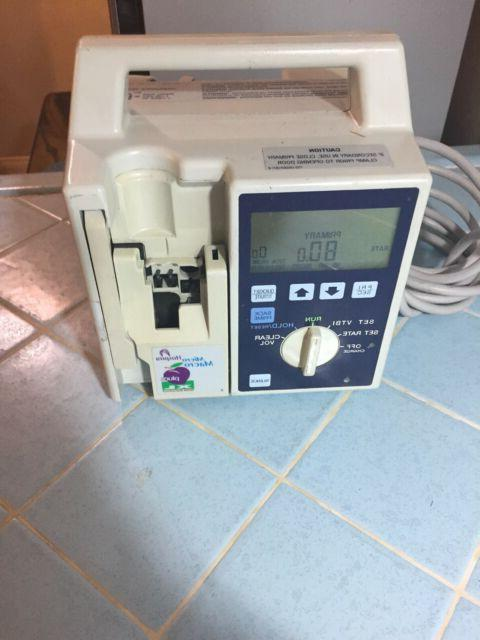plumxl1: (64, 30, 433, 408)
